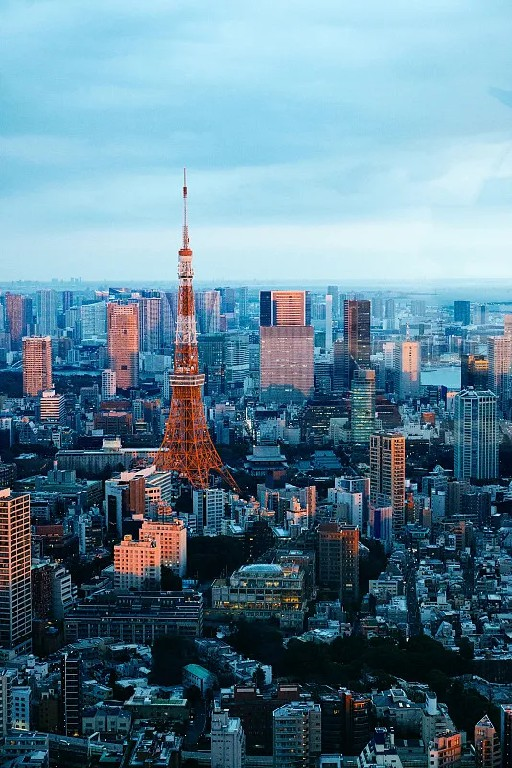Tokyo: (143, 160, 243, 494)
